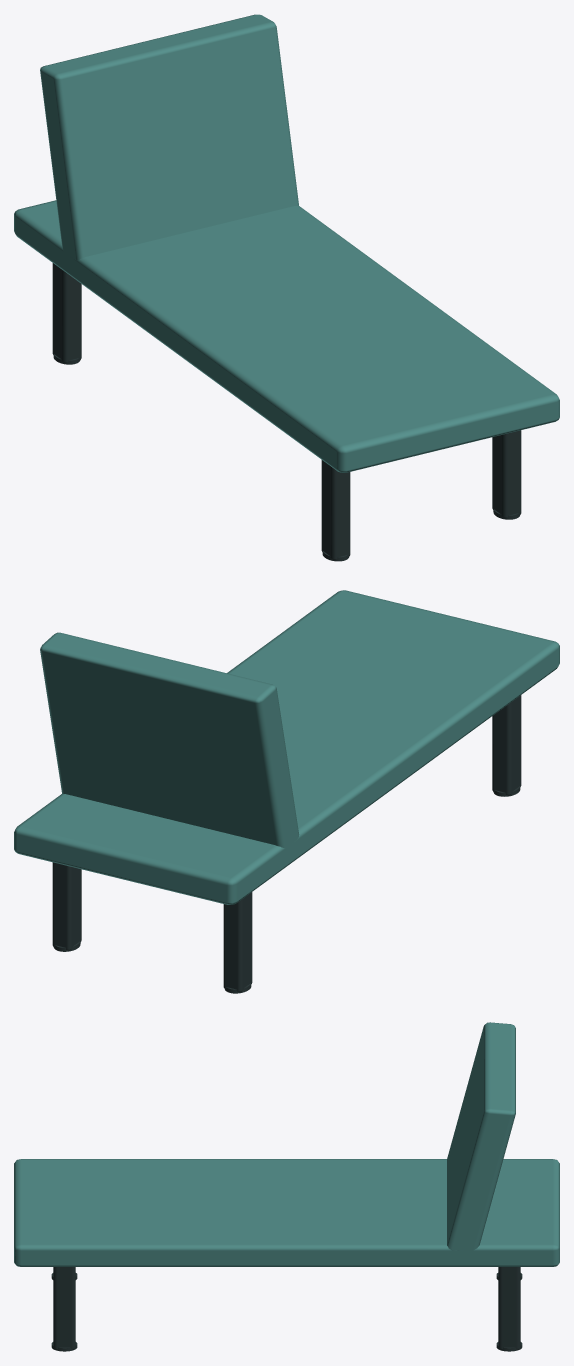
The model's file is wp-chaise-longue.glb.
3 renders of one model, top to bottom at view 1: azimuth 30°, elevation 25°; view 2: azimuth 150°, elevation 25°; view 3: azimuth 270°, elevation 25°, orthographic. The views are drawn at different scales.
Visible parts, largest first — view 1: wp-chaise-longue; view 2: wp-chaise-longue; view 3: wp-chaise-longue.
Boxes of the visible parts, x1,y1,x2,y2 form: wp-chaise-longue: (14, 14, 559, 561); wp-chaise-longue: (14, 590, 559, 993); wp-chaise-longue: (14, 1022, 559, 1351).
Size of the model in its own units: 0.7 by 0.8983 by 1.8.
